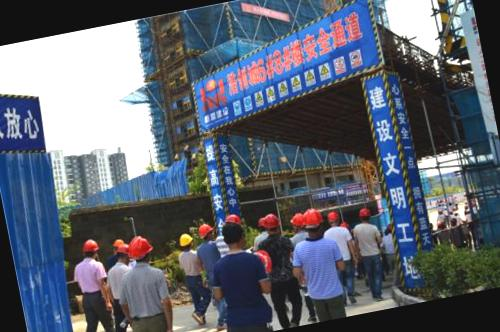no_helmet: (220, 218, 254, 253)
